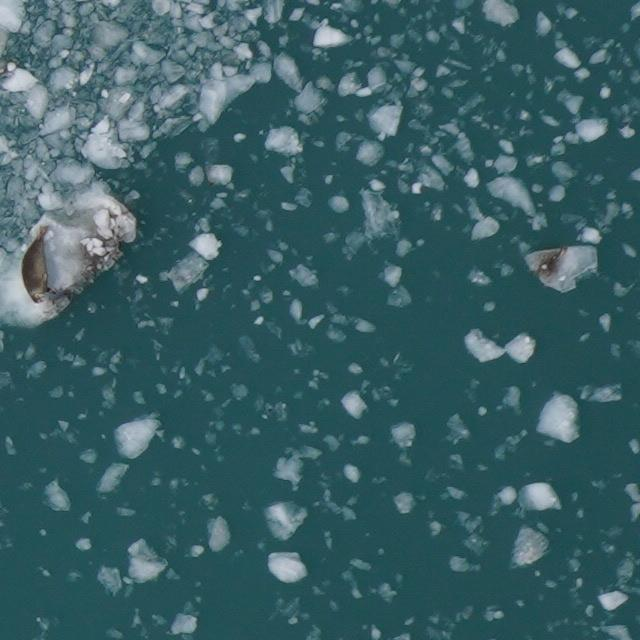seal: (19, 225, 51, 303)
